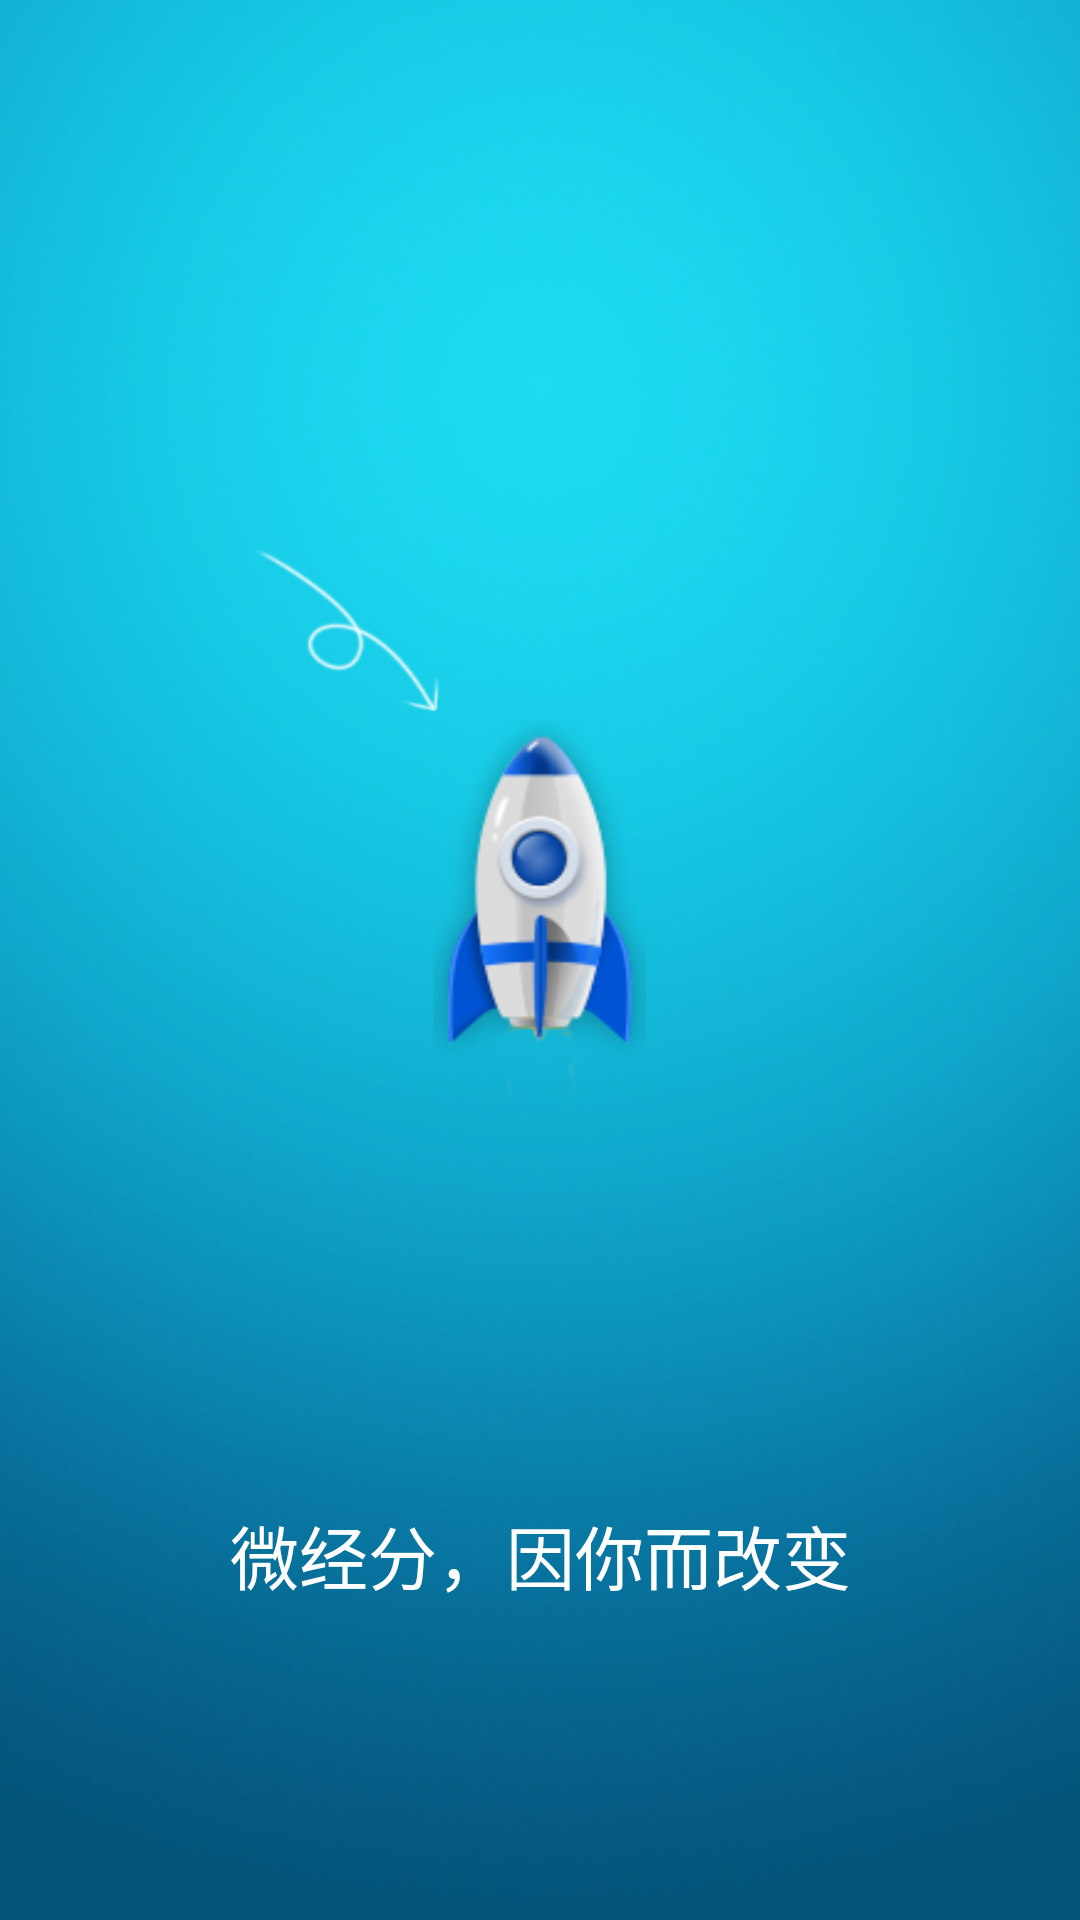

Locate icon controls on the screen. Image size 1080*1920, boxes as (x1, y1, x2, y2).
show jiantou: (259, 551, 439, 711)
